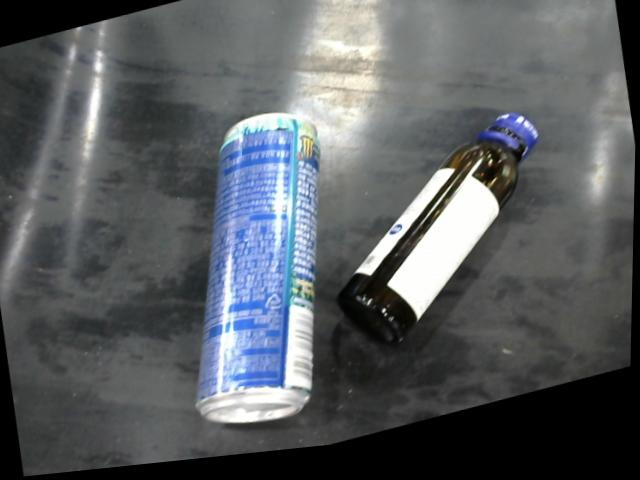trash: (338, 107, 548, 363), (195, 110, 325, 446)
